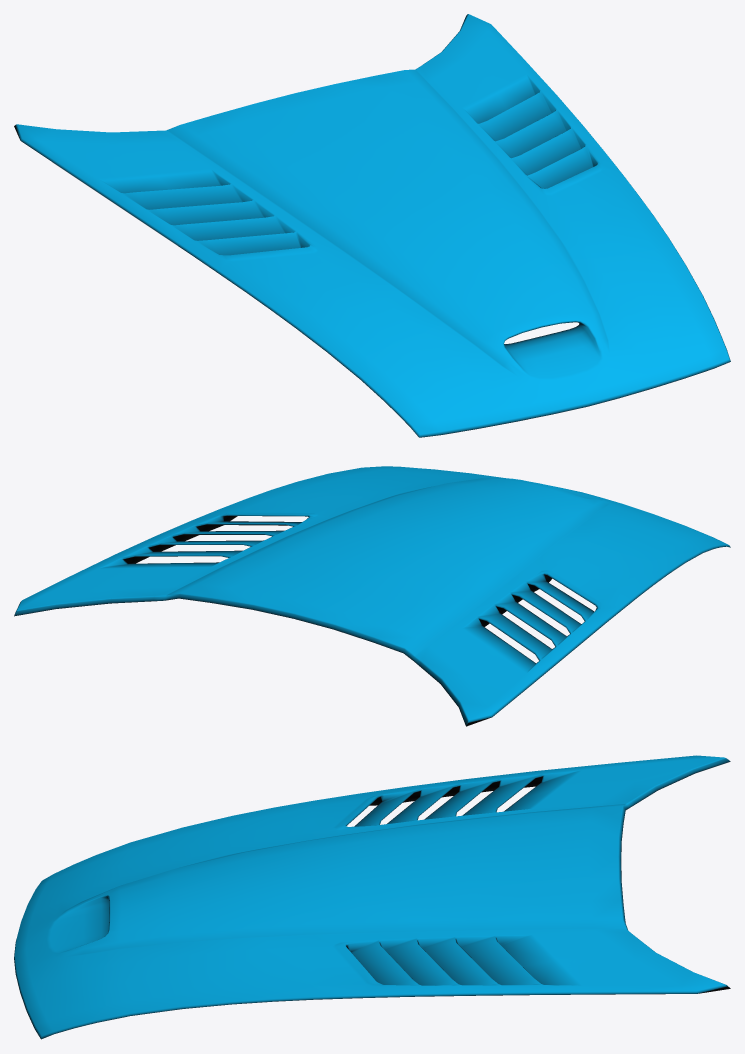
File: Viper_Hood_01_Duco.fbx
The picture shows the model from 3 angles, top to bottom: view 1: azimuth 30°, elevation 25°; view 2: azimuth 150°, elevation 25°; view 3: azimuth 270°, elevation 25°; orthographic projection. The views are drawn at different scales.
Parts seen in each view (by area): view 1: Viper_Hood_01_Duco; view 2: Viper_Hood_01_Duco; view 3: Viper_Hood_01_Duco.
Boxes of the visible parts, x1,y1,x2,y2 form: Viper_Hood_01_Duco: (14, 14, 730, 437); Viper_Hood_01_Duco: (14, 466, 730, 726); Viper_Hood_01_Duco: (14, 755, 730, 1039).
Size of the model in its own units: 139 by 28.64 by 178.
